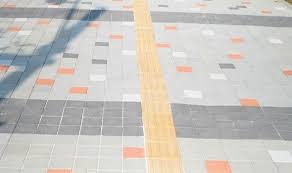guide_blocks: (129, 1, 184, 172)
